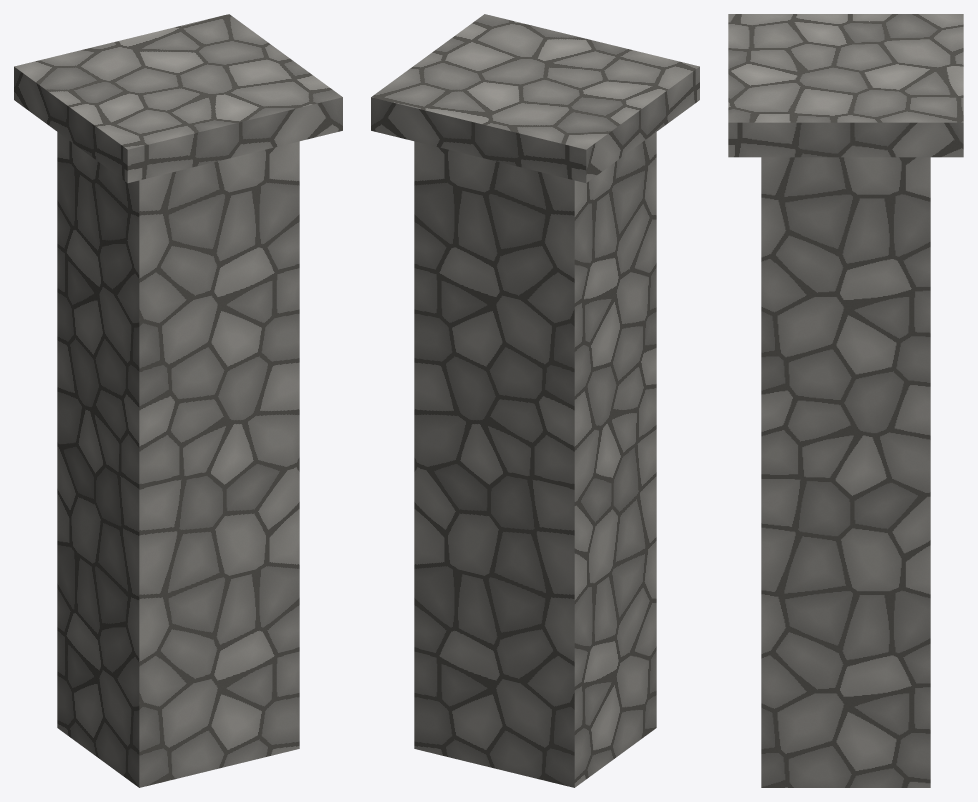
Rendered from chimney_stone_stack.glb.
3 views of the same model, side by side, from view 1: azimuth 30°, elevation 25°; view 2: azimuth 150°, elevation 25°; view 3: azimuth 270°, elevation 25° (orthographic). The views are drawn at different scales.
Parts seen in each view (by area): view 1: chimney_stone_stack_0; view 2: chimney_stone_stack_0; view 3: chimney_stone_stack_0.
Part boxes in pixels (x1,y1,x2,y2): chimney_stone_stack_0: [14, 14, 342, 787]; chimney_stone_stack_0: [371, 14, 699, 787]; chimney_stone_stack_0: [728, 14, 963, 787].
Bounding box in the file's own units: 0.94 × 2.74 × 0.86.
Materials: 1 (1 with a texture image).
